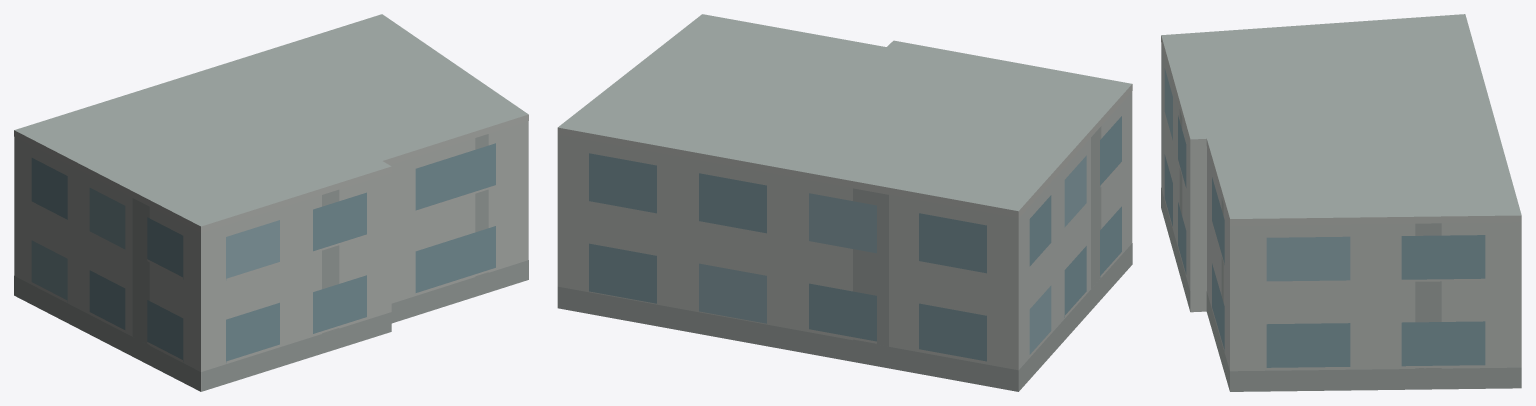
File: residential-a9874cfc-1cf5-41fd-943b-b09921788d97.glb
3 renders of one model, left to right at view 1: azimuth 30°, elevation 25°; view 2: azimuth 150°, elevation 25°; view 3: azimuth 270°, elevation 25°, orthographic. The views are drawn at different scales.
Parts seen in each view (by area): view 1: residential-a9874cfc-1cf5-41fd-943b-b09921788d97.tmp; view 2: residential-a9874cfc-1cf5-41fd-943b-b09921788d97.tmp; view 3: residential-a9874cfc-1cf5-41fd-943b-b09921788d97.tmp.
Part boxes in pixels (left/top/right/bottom): residential-a9874cfc-1cf5-41fd-943b-b09921788d97.tmp: left=14, top=14, right=528, bottom=391; residential-a9874cfc-1cf5-41fd-943b-b09921788d97.tmp: left=557, top=14, right=1132, bottom=391; residential-a9874cfc-1cf5-41fd-943b-b09921788d97.tmp: left=1161, top=14, right=1521, bottom=391.
Bounding box in the file's own units: 15.53 × 6.1 × 11.54.
